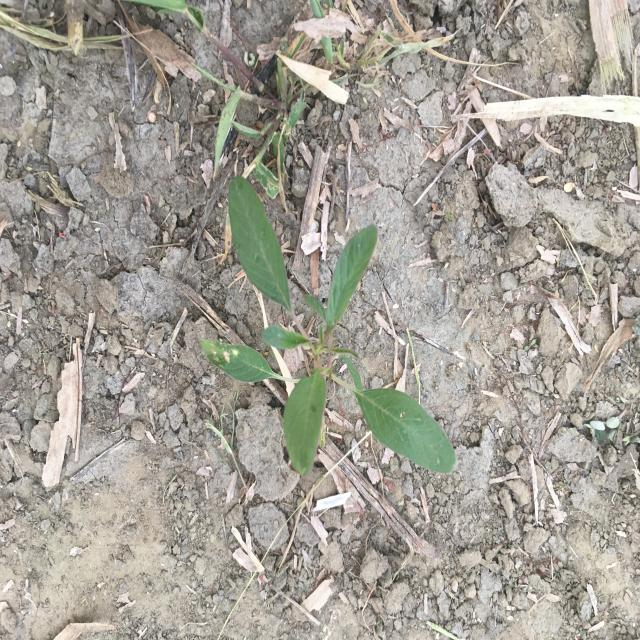Waterhemp: (198, 174, 458, 479)
